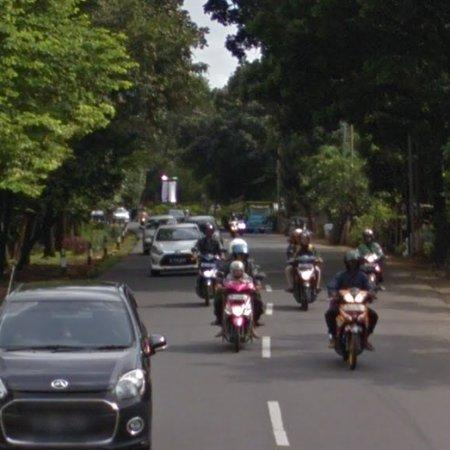motorcycles: (336, 289, 369, 369), (223, 280, 256, 351)
